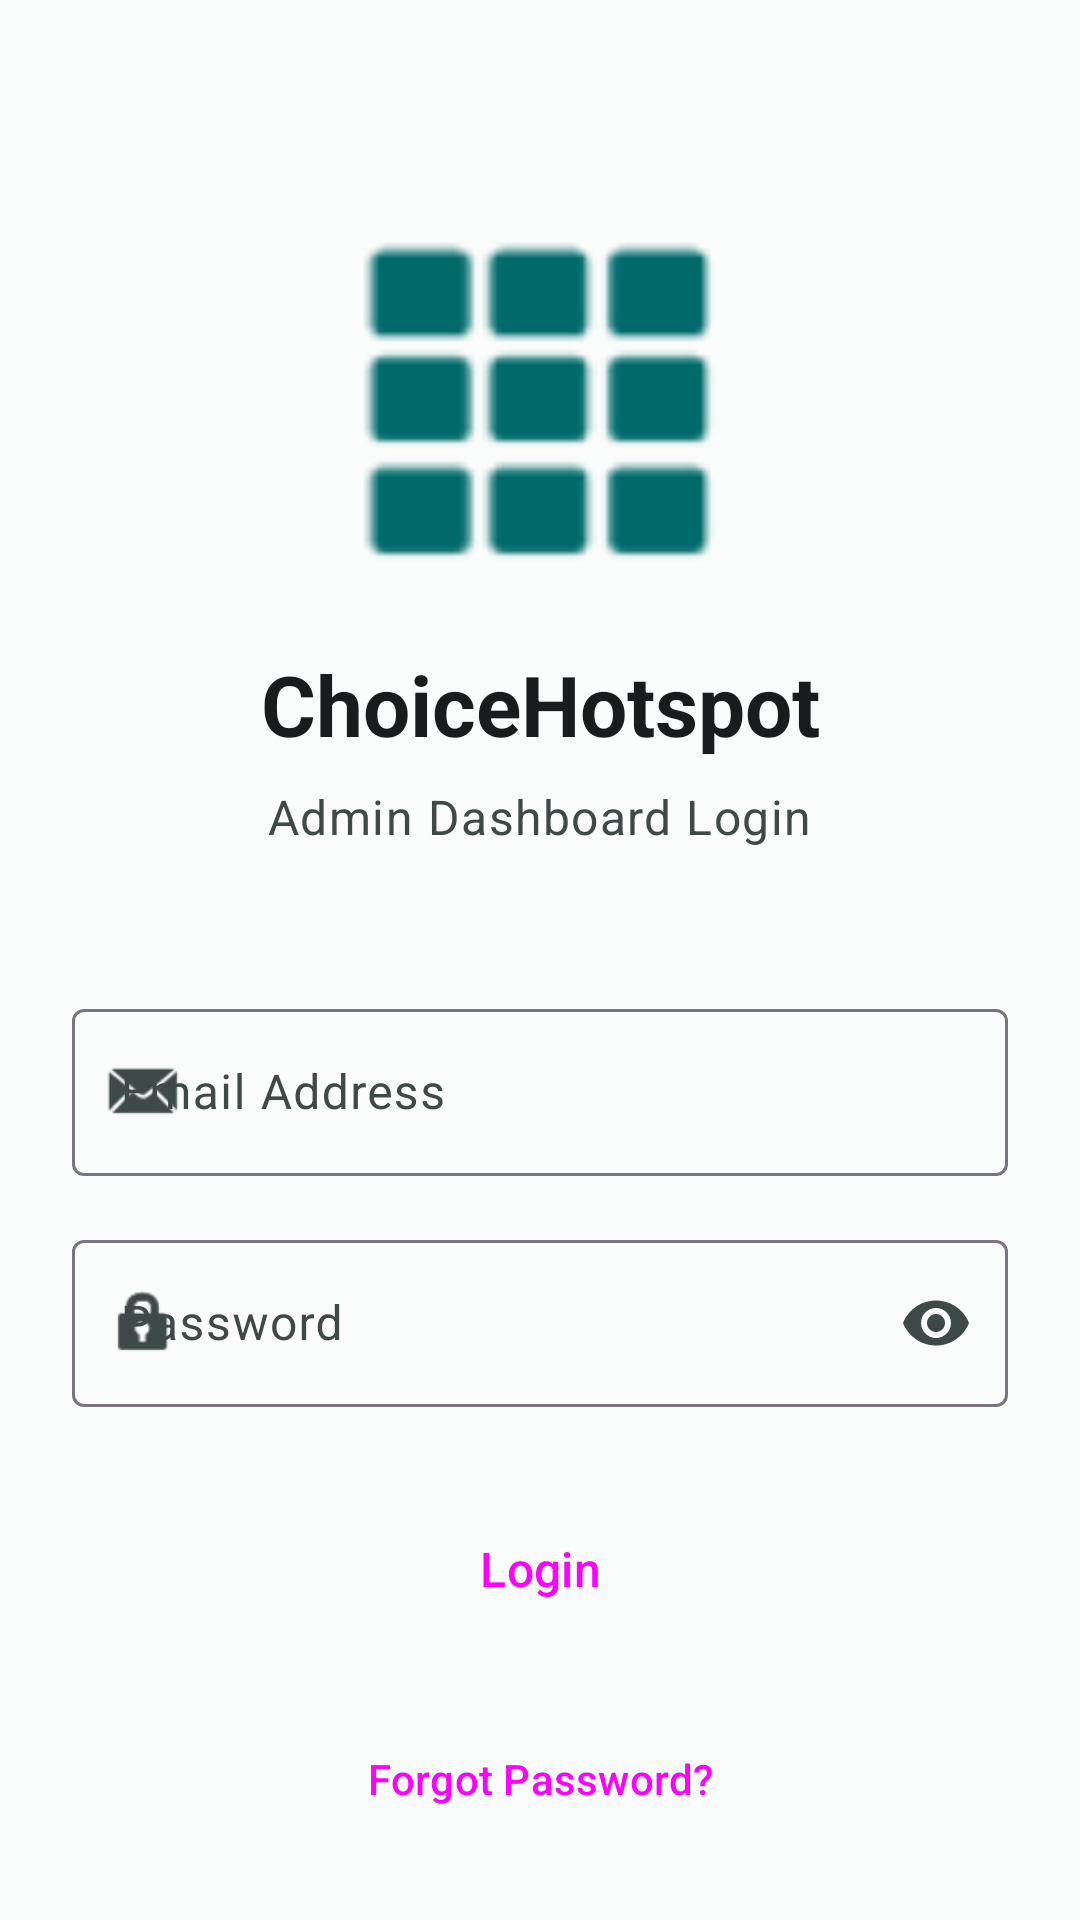

Icons on this 1080 × 1920 Android screen, each with the point to tap as point (x, y):
dialer: point (538, 400)
